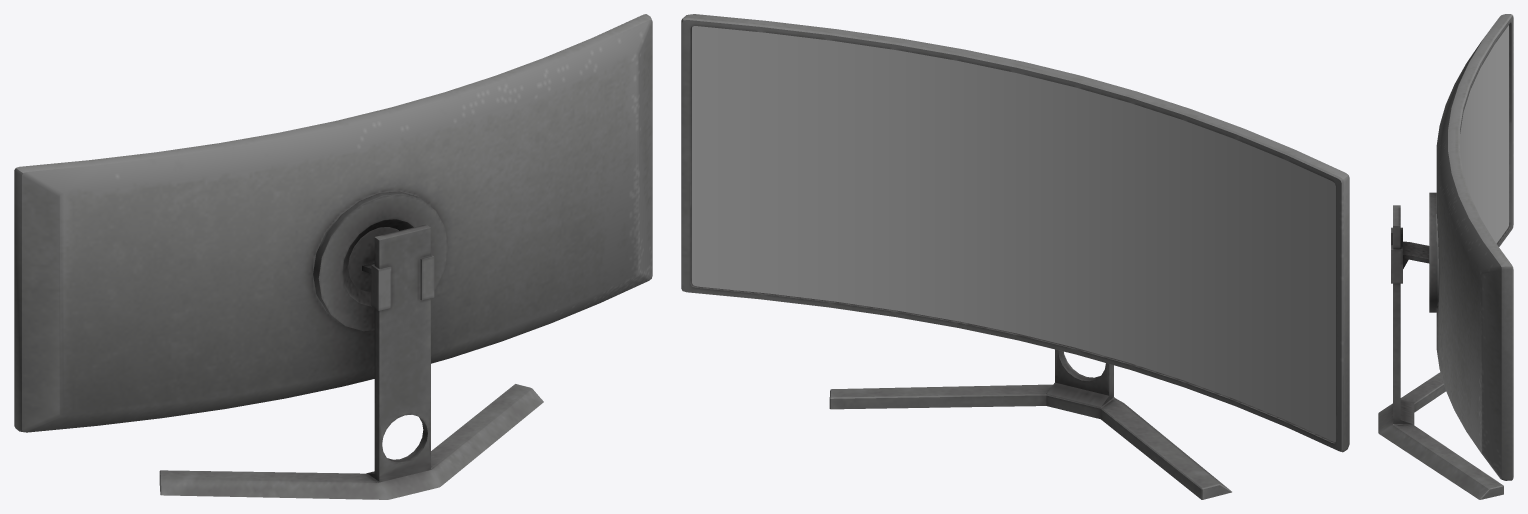
File: Tv 32 Inch.FBX
3 renders of one model, left to right at view 1: azimuth 30°, elevation 25°; view 2: azimuth 150°, elevation 25°; view 3: azimuth 270°, elevation 25°, orthographic. The views are drawn at different scales.
Parts seen in each view (by area): view 1: TV 32 inch.001; view 2: TV 32 inch.002, TV 32 inch.001; view 3: TV 32 inch.001, TV 32 inch.002.
Boxes of the visible parts, left/top/right/bottom form: TV 32 inch.001: left=14, top=14, right=652, bottom=499; TV 32 inch.002: left=692, top=26, right=1335, bottom=441; TV 32 inch.001: left=681, top=14, right=1349, bottom=499; TV 32 inch.001: left=1378, top=14, right=1513, bottom=499; TV 32 inch.002: left=1460, top=25, right=1508, bottom=243.
Size of the model in its own units: 150 by 77.77 by 33.65.
